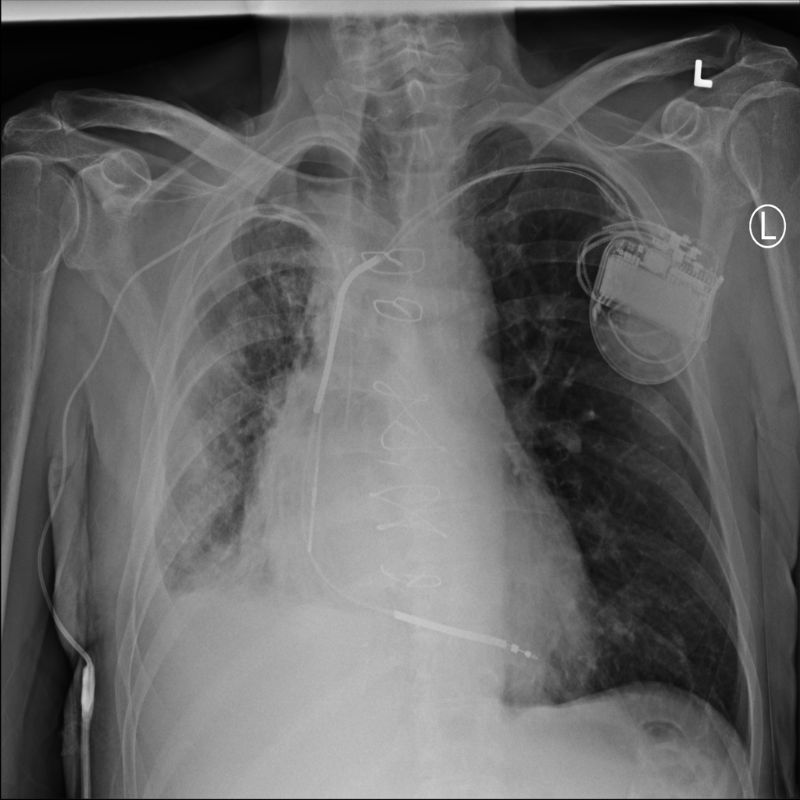PLEURAL EFFUSION: (126, 531, 302, 666)
